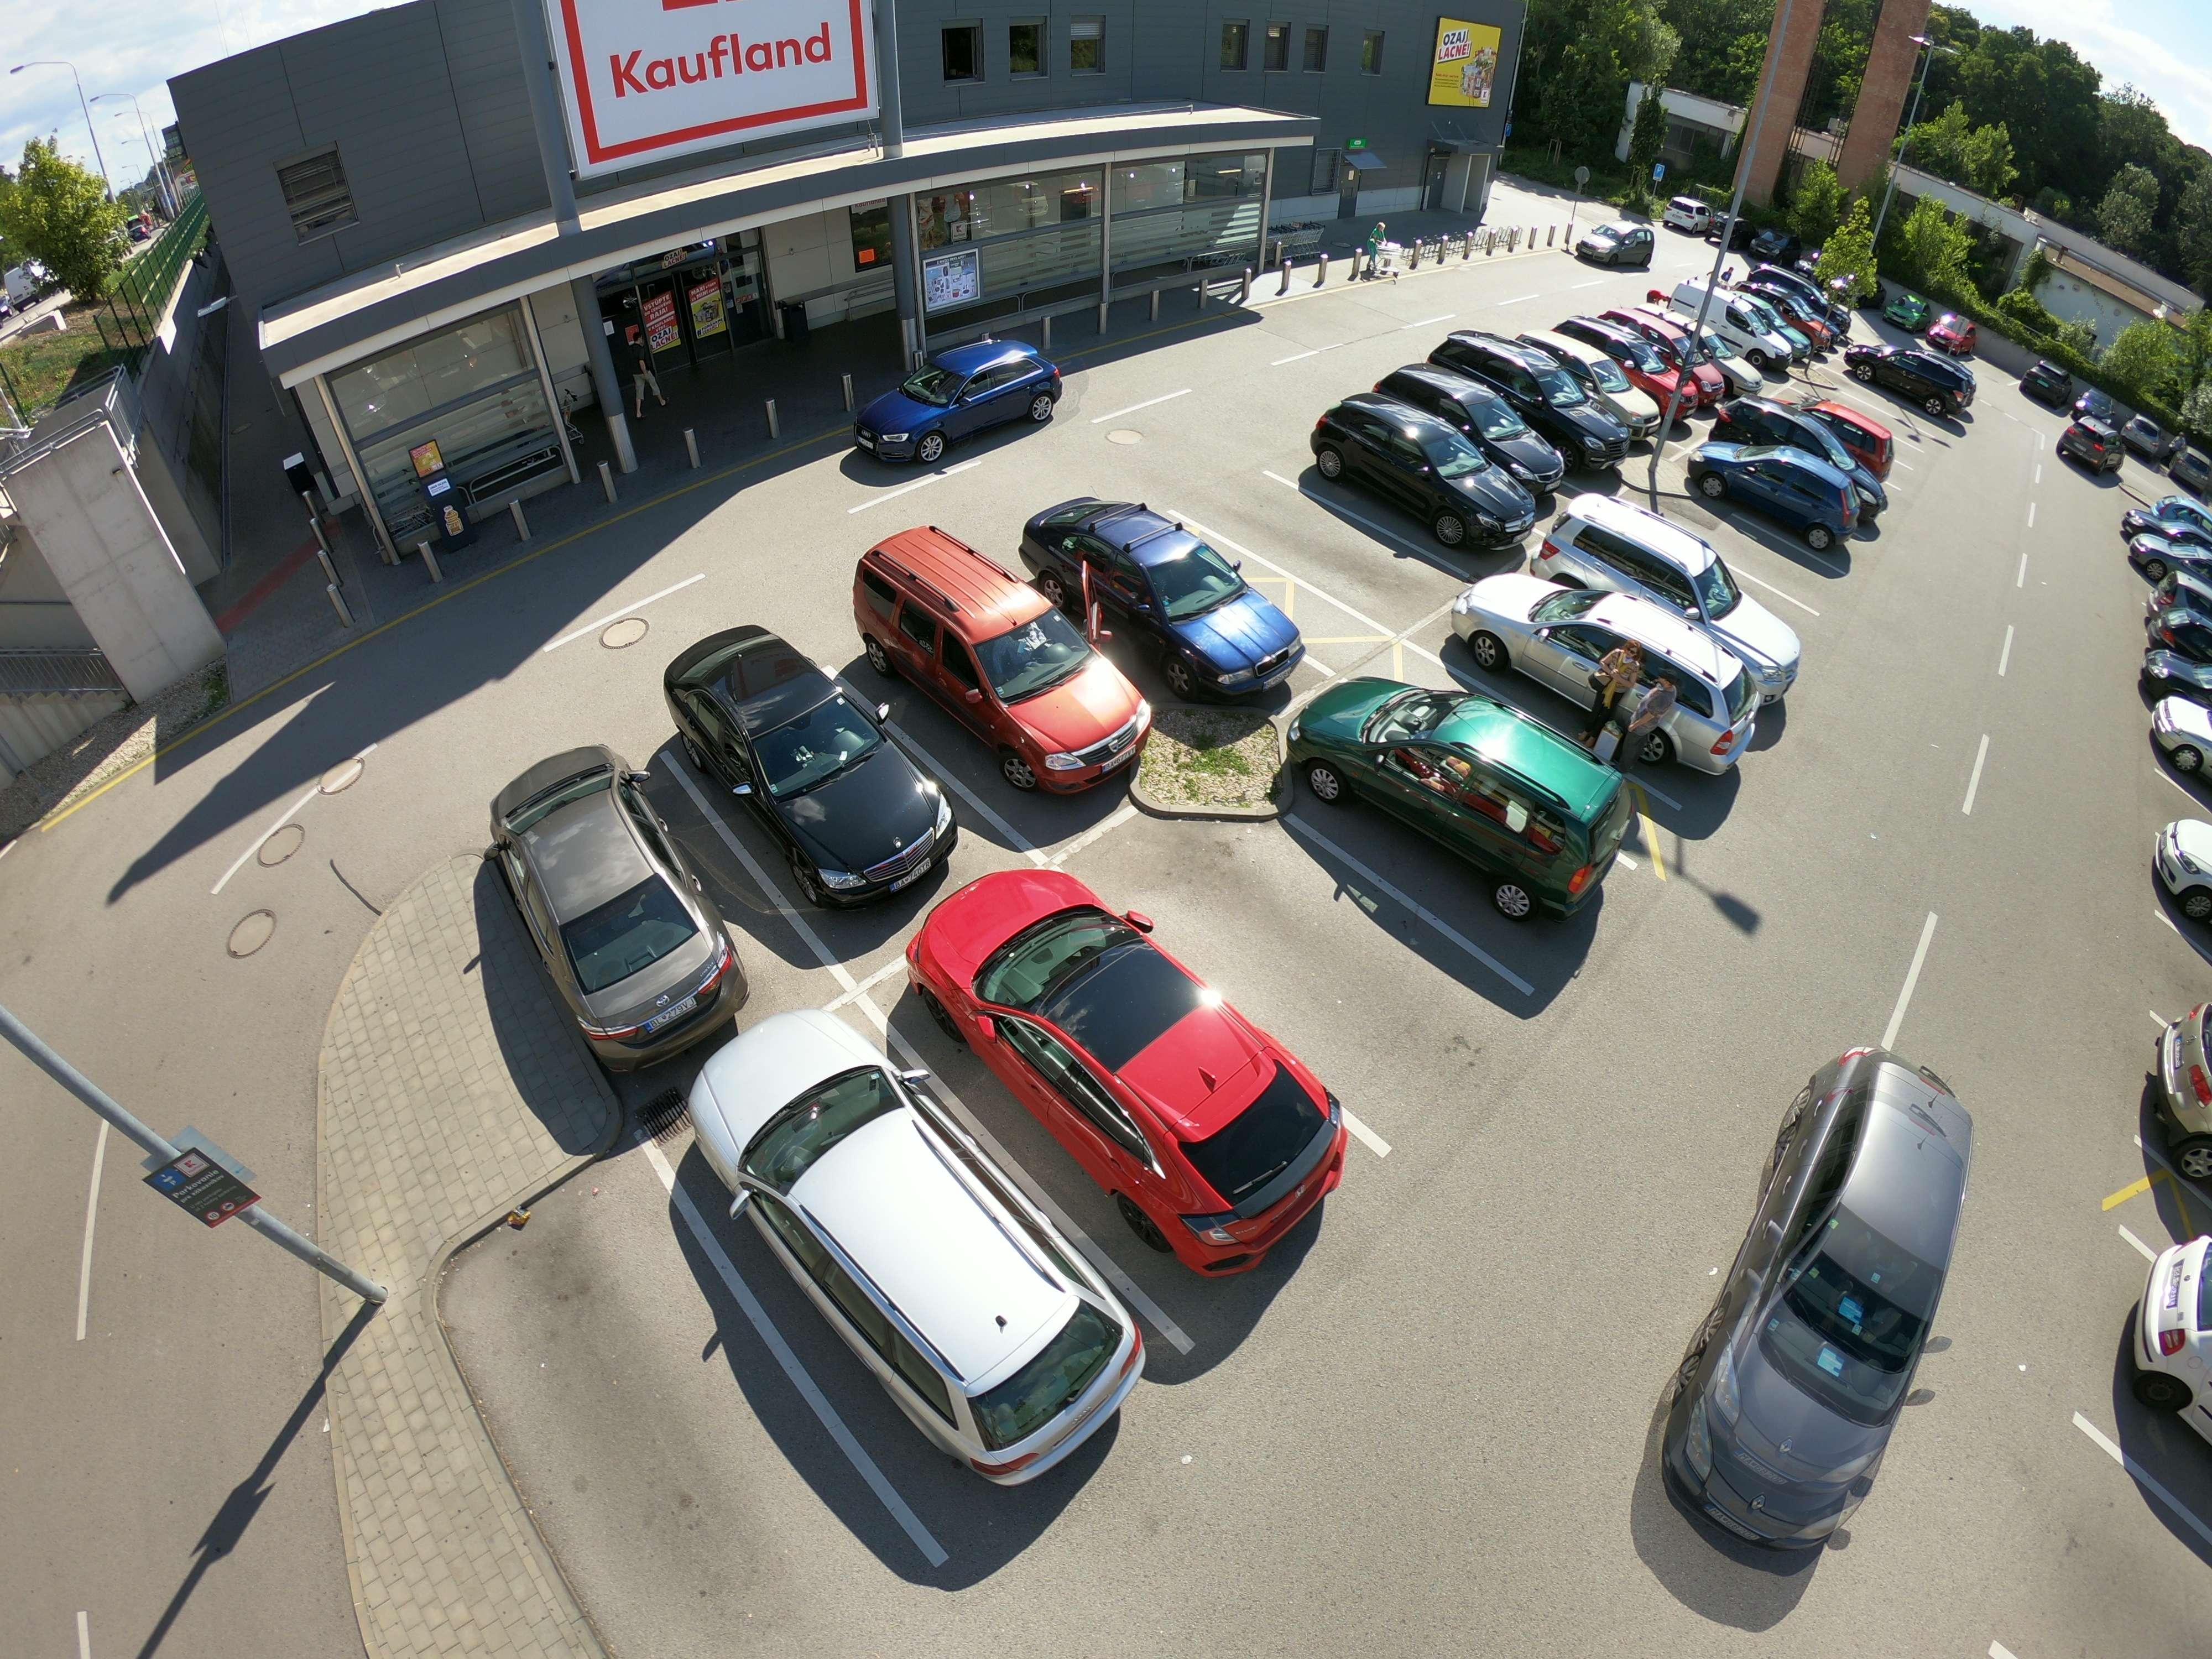empty: (725, 1014, 1120, 1481), (1674, 1051, 1975, 1563), (928, 889, 1336, 1267), (493, 746, 738, 1058), (686, 633, 949, 904), (857, 532, 1123, 788), (1308, 685, 1613, 906), (1446, 570, 1742, 758), (1049, 504, 1305, 701), (571, 0, 904, 141), (1552, 504, 1780, 631), (1317, 406, 1510, 542), (862, 335, 1062, 462), (1696, 443, 1872, 554), (1446, 321, 1609, 437), (1399, 368, 1557, 469), (1559, 317, 1679, 425), (2149, 816, 2212, 955)
occupied: (489, 1274, 758, 1493), (1221, 880, 1413, 1030), (1684, 523, 1806, 612), (1292, 516, 1390, 579), (1836, 390, 1914, 451)
